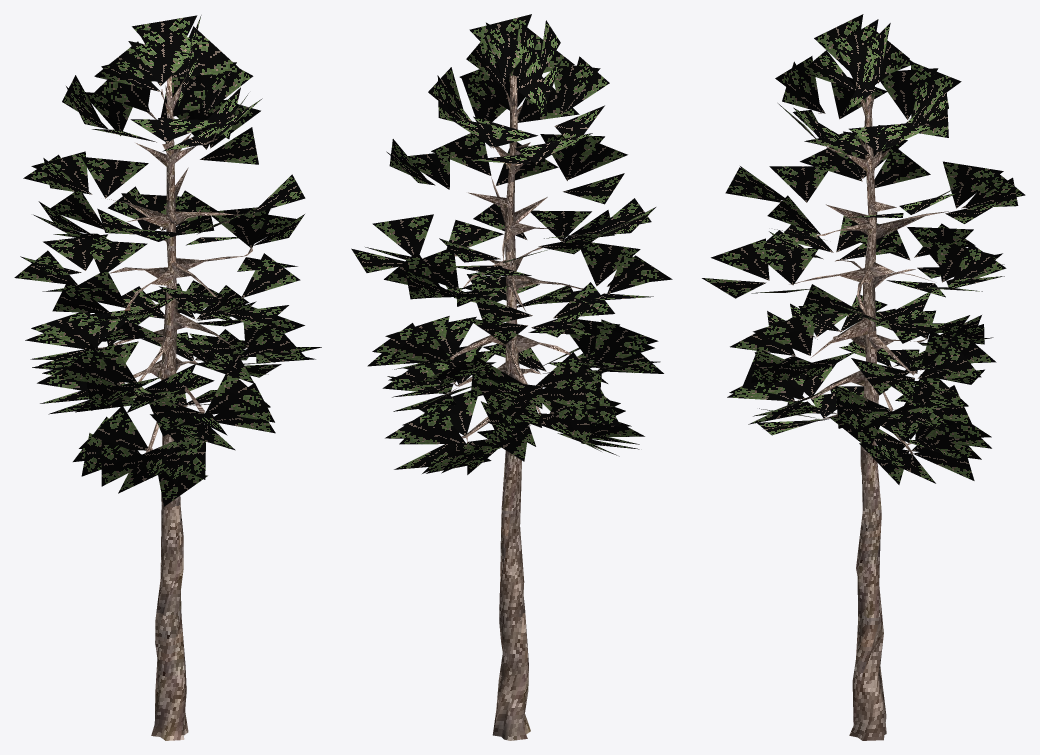
The model's file is tree_pine_lo.glb.
3 views of the same model, side by side, from view 1: azimuth 30°, elevation 25°; view 2: azimuth 150°, elevation 25°; view 3: azimuth 270°, elevation 25° (orthographic).
Visible parts, largest first — view 1: m; view 2: m; view 3: m.
Boxes of the visible parts, box(x1,y1,x2,y2) form: m: box(14, 15, 321, 740); m: box(351, 14, 672, 740); m: box(702, 14, 1025, 740).
Size of the model in its own units: 0.3947 by 0.9681 by 0.4051.
2 materials, 2 textured.
